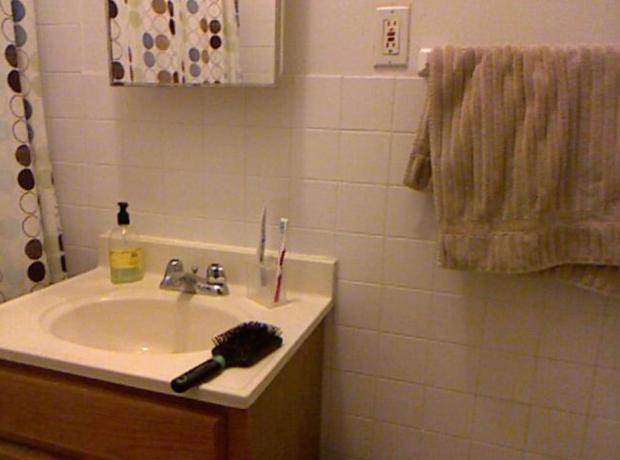Lavamanos: (1, 225, 344, 413)
